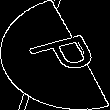P_E: (13, 29, 97, 81)
